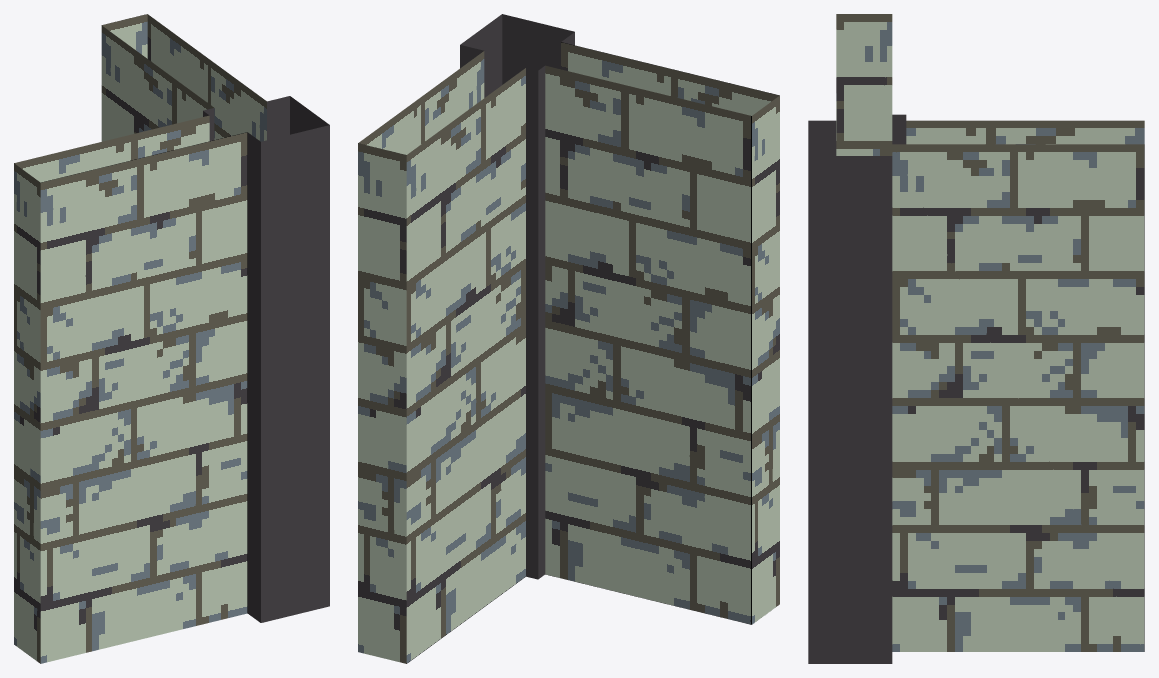
Rendered from corner_01.glb.
3 renders of one model, left to right at view 1: azimuth 30°, elevation 25°; view 2: azimuth 150°, elevation 25°; view 3: azimuth 270°, elevation 25°, orthographic. The views are drawn at different scales.
Parts seen in each view (by area): view 1: Corner; view 2: Corner; view 3: Corner.
Part boxes in pixels (x1,y1,x2,y2): Corner: [14, 14, 329, 663]; Corner: [358, 14, 779, 663]; Corner: [808, 14, 1144, 663].
Size of the model in its own units: 2.4 by 4 by 2.4.
1 material, 1 textured.
